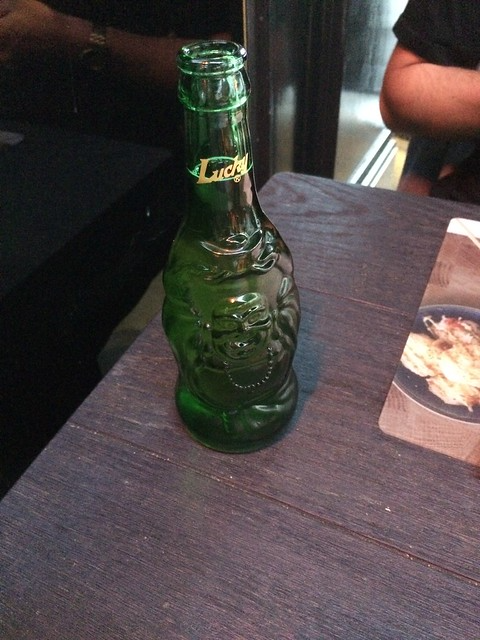bottle: (141, 28, 317, 461)
